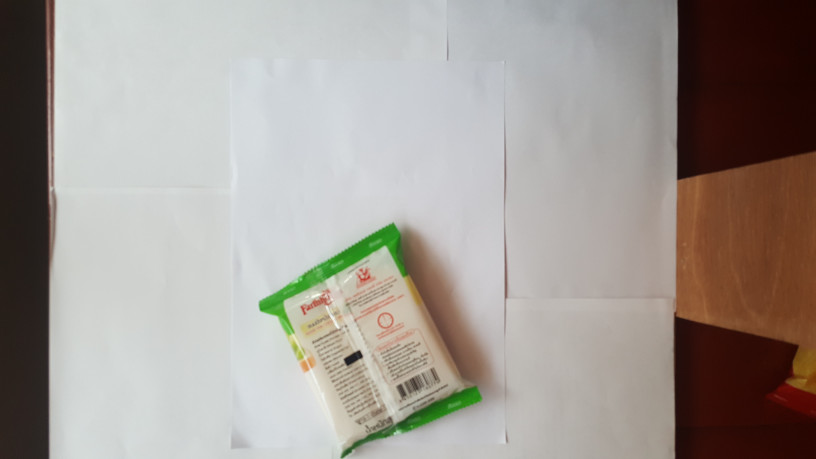farmhouse-bread-pandan: (252, 222, 485, 459)
